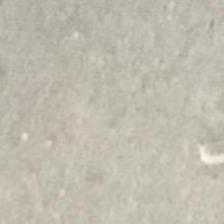Non_Crack: (28, 22, 194, 176)
